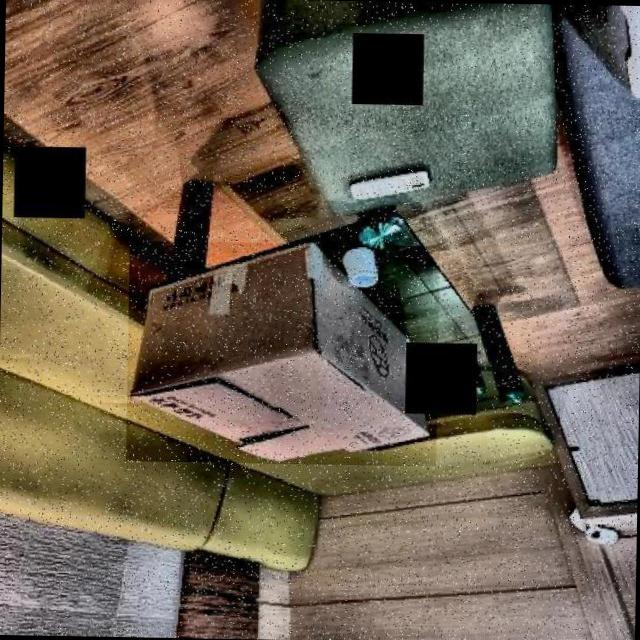box: (126, 241, 440, 466)
